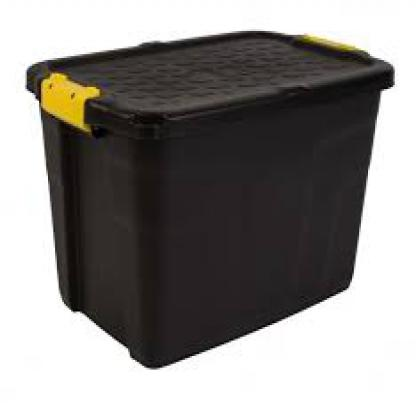plastic_box: (7, 12, 405, 377)
